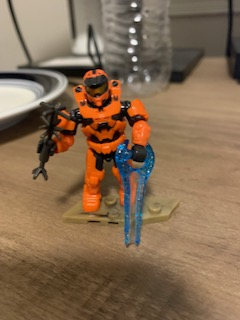spartan: (34, 69, 153, 213)
